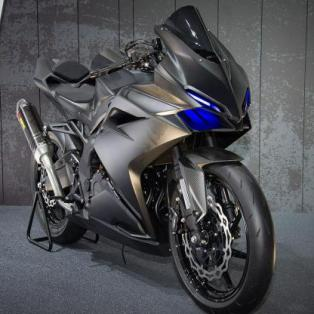Motocicleta: (11, 4, 282, 313)
